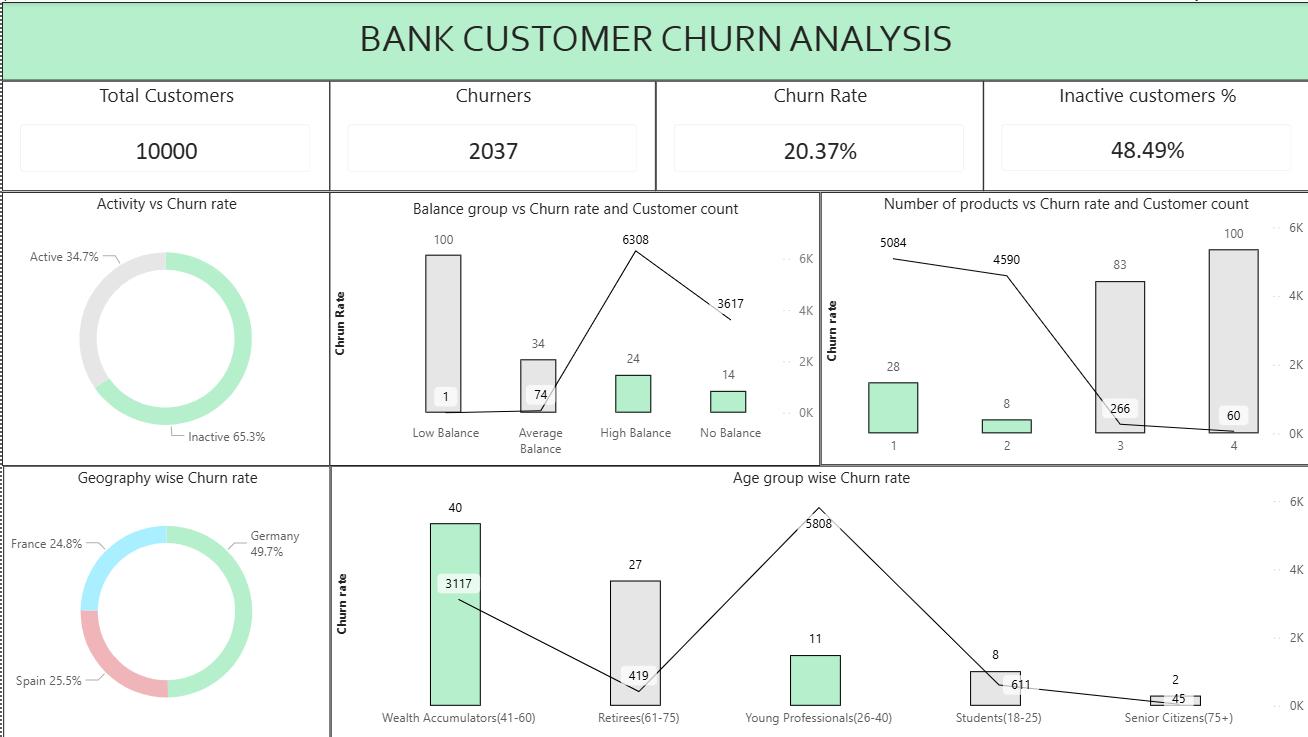

The page's visual inventory and layout, read from the dashboard file:
{"tool":"powerbi","page":{"name":"Strong Insights","canvas":[1280,720],"ordinal":0},"visuals":[{"type":"textbox","box":[0,0,1280.3,77],"z":0},{"type":"cardVisual","title":"Total Customers","fields":{"Data":["Measure.Customer_cnt"]},"box":[0,77.5,320.7,108.2],"z":1000},{"type":"cardVisual","title":"Churners","fields":{"Data":["Measure.Churner_cnt"]},"box":[320.7,77.5,319.4,108.2],"z":2000},{"type":"cardVisual","title":"Churn Rate","fields":{"Data":["Measure.Churn_Rate"]},"box":[640.1,77.5,320.7,108.2],"z":3000},{"type":"donutChart","title":"Activity vs Churn rate","fields":{"Category":["Bank_Churn.Activity"],"Y":["Measuress.Churn_Rate"]},"box":[0,186.2,320.8,267.7],"z":4000},{"type":"lineStackedColumnComboChart","title":"Number of products vs Churn rate and Customer count","fields":{"Category":["Bank_Churn.Num_Of_Products"],"Y":["Measuress.Churn_Rate"],"Y2":["Measuress.Customer_cnt"]},"box":[801.2,186.2,478.8,267.5],"z":5000},{"type":"lineStackedColumnComboChart","title":"Age group wise Churn rate","fields":{"Category":["Bank_Churn.Age_Group"],"Y":["Measuress.Churn_Rate"],"Y2":["Measuress.Customer_cnt"]},"box":[321.2,453.8,958.8,266.2],"z":6000},{"type":"donutChart","title":"Geography wise Churn rate","fields":{"Category":["Bank_Churn.Geography"],"Y":["Measuress.Churn_Rate"]},"box":[1.2,453.8,320,266.2],"z":7000},{"type":"lineStackedColumnComboChart","title":"Balance group vs Churn rate and Customer count","fields":{"Category":["Bank_Churn.Balance_Group"],"Y2":["Measuress.Customer_cnt"],"Y":["Measuress.Churn_Rate"]},"box":[320.8,186.2,480,267.7],"z":8000},{"type":"cardVisual","title":"Inactive customers %","fields":{"Data":["Measuress.Inactive Customers Percentage"]},"box":[959.9,77,320.4,107.6],"z":9000}]}

Visuals, with their boxes in screenshot pixels (x1, y1, x2, y2), scaled from the page's 1280x720 canvas onto the 1308x737 screenshot:
textbox: select_region(0, 0, 1307, 79)
"Total Customers" cardVisual: select_region(0, 79, 328, 190)
"Churners" cardVisual: select_region(328, 79, 654, 190)
"Churn Rate" cardVisual: select_region(654, 79, 982, 190)
"Activity vs Churn rate" donutChart: select_region(0, 191, 328, 465)
"Number of products vs Churn rate and Customer count" lineStackedColumnComboChart: select_region(819, 191, 1307, 464)
"Age group wise Churn rate" lineStackedColumnComboChart: select_region(328, 465, 1307, 736)
"Geography wise Churn rate" donutChart: select_region(1, 465, 328, 736)
"Balance group vs Churn rate and Customer count" lineStackedColumnComboChart: select_region(328, 191, 818, 465)
"Inactive customers %" cardVisual: select_region(981, 79, 1307, 189)
